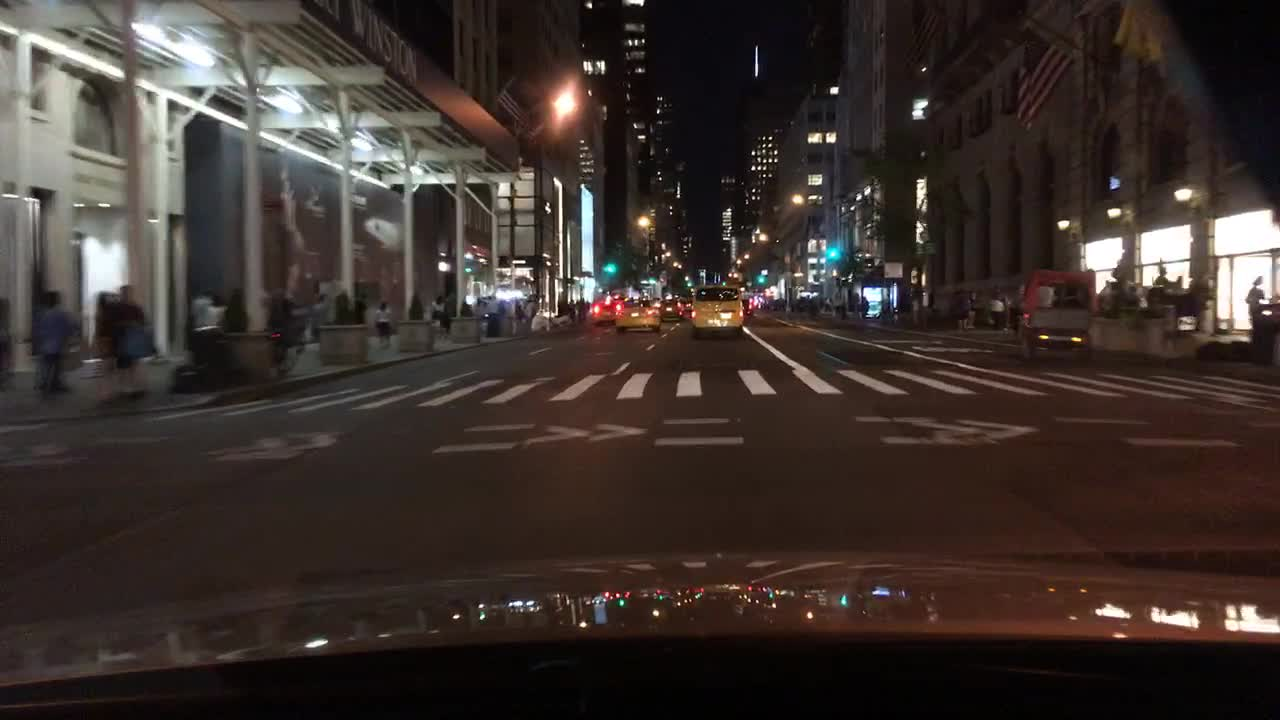car: (1013, 264, 1101, 362), (687, 282, 746, 341), (612, 293, 664, 336), (589, 288, 627, 328), (468, 292, 514, 322), (657, 295, 688, 320), (739, 295, 756, 319), (681, 299, 694, 310)
person: (111, 282, 148, 397), (35, 289, 66, 396), (90, 289, 118, 402), (267, 290, 299, 375), (37, 289, 60, 393), (0, 293, 16, 400), (307, 290, 334, 339), (221, 288, 250, 332), (187, 285, 215, 329), (985, 283, 1010, 331), (1245, 273, 1266, 328), (372, 298, 393, 350), (204, 289, 228, 328), (331, 285, 353, 326), (953, 285, 972, 331), (963, 286, 979, 329), (351, 289, 369, 325), (430, 292, 446, 329), (407, 289, 424, 323), (1152, 260, 1171, 286), (574, 293, 587, 323), (565, 296, 578, 323), (458, 298, 474, 316), (495, 298, 507, 317), (584, 296, 595, 313)
traffic light: (605, 259, 617, 273), (647, 274, 658, 288), (828, 244, 836, 261), (684, 277, 695, 289), (756, 273, 766, 285)
